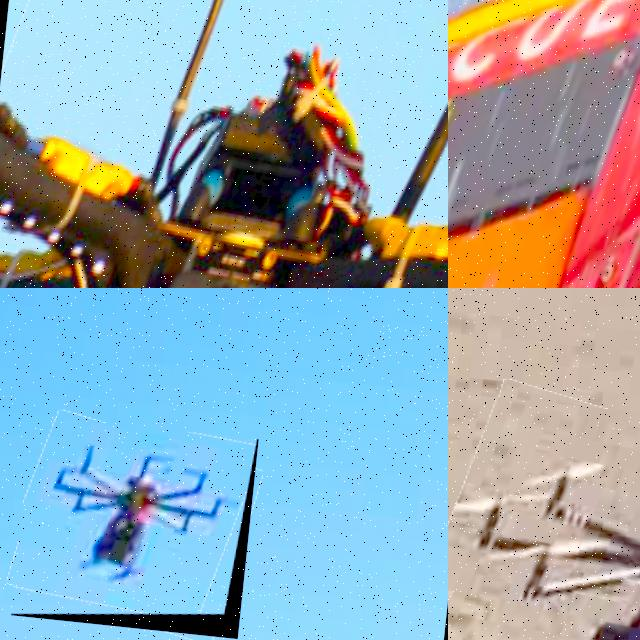0: (10, 415, 258, 639), (448, 392, 640, 640)
drone: (0, 0, 448, 288), (448, 0, 640, 288)
